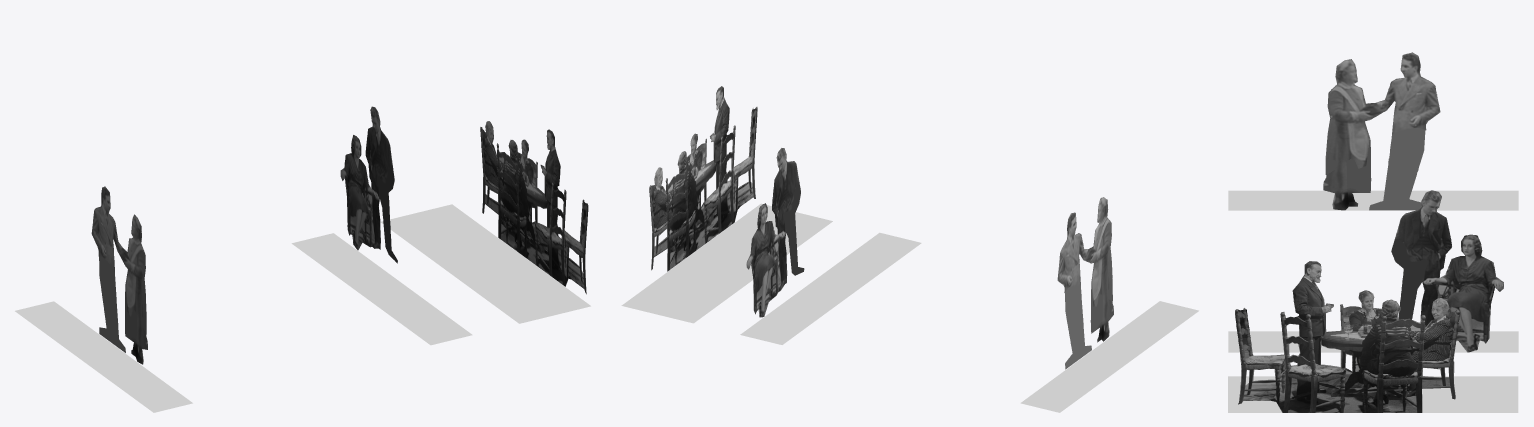
3 views of the same model, side by side, from view 1: azimuth 30°, elevation 25°; view 2: azimuth 150°, elevation 25°; view 3: azimuth 270°, elevation 25° (orthographic). The views are drawn at different scales.
Visible parts, largest first — view 1: 7 terra noia, 1 grup, 8 terra taula, Plane.001, 3 parella final, 2 parella davant; view 2: 1 grup, 7 terra noia, 8 terra taula, Plane.001, 3 parella final, 2 parella davant; view 3: 1 grup, 3 parella final, 2 parella davant, Plane.001, 7 terra noia, 8 terra taula.
Boxes of the visible parts, x1,y1,x2,y2 form: 7 terra noia: (380, 204, 590, 323); 1 grup: (480, 121, 588, 294); 8 terra taula: (291, 233, 472, 345); Plane.001: (15, 301, 192, 412); 3 parella final: (91, 186, 147, 364); 2 parella davant: (340, 106, 397, 263); 1 grup: (649, 86, 757, 271); 7 terra noia: (621, 203, 832, 323); 8 terra taula: (740, 232, 921, 344); Plane.001: (1020, 301, 1198, 412); 3 parella final: (1057, 197, 1113, 369); 2 parella davant: (746, 148, 804, 317); 1 grup: (1235, 261, 1459, 412); 3 parella final: (1323, 52, 1440, 210); 2 parella davant: (1391, 190, 1503, 352); Plane.001: (1228, 190, 1518, 210); 7 terra noia: (1228, 376, 1518, 412); 8 terra taula: (1228, 331, 1518, 352).
Size of the model in its own units: 23.57 by 9.78 by 13.07.
Materials: 6 (3 with a texture image).
